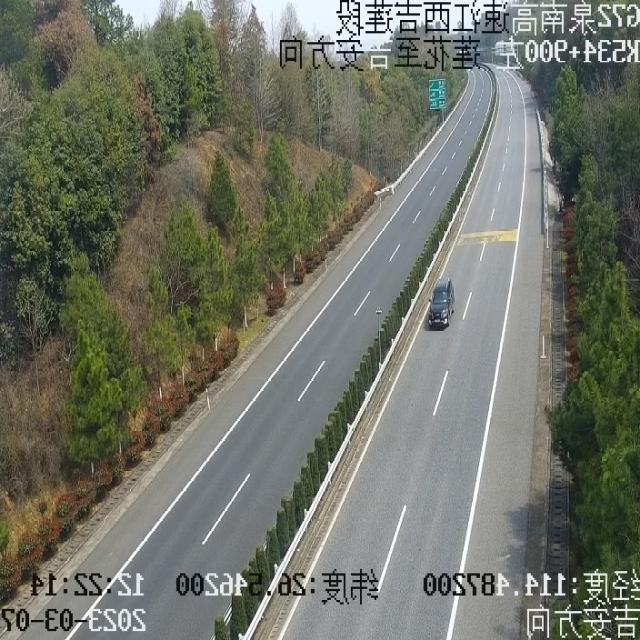point: (456, 47, 514, 100)
